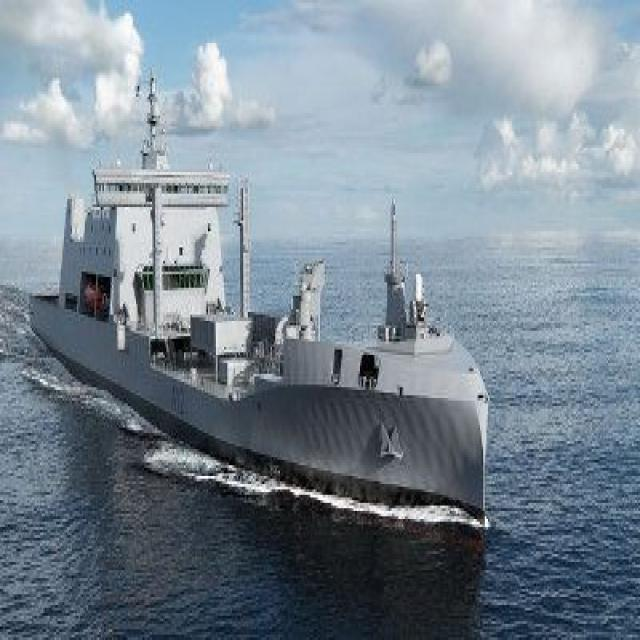navalvessels: (19, 133, 486, 516)
